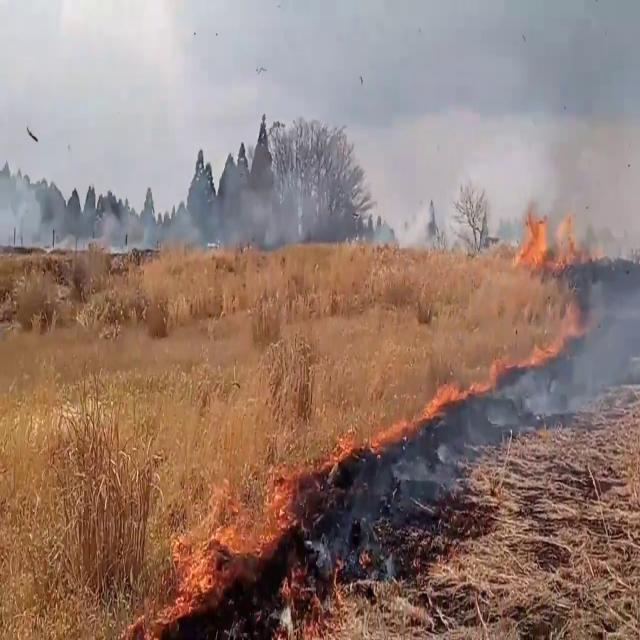Fire: (514, 196, 582, 278)
Smoke: (511, 42, 640, 436), (0, 155, 48, 254)
